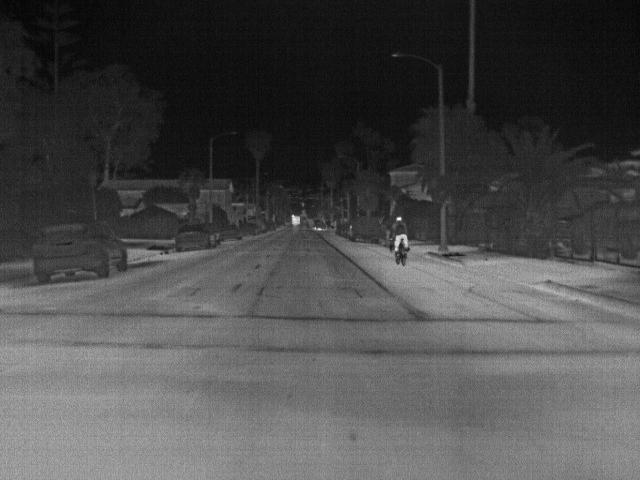car: (33, 221, 128, 286), (173, 224, 216, 251), (351, 214, 383, 244), (220, 223, 241, 242), (340, 219, 355, 239), (334, 220, 348, 234), (313, 218, 327, 232), (262, 222, 276, 234)
person: (392, 214, 411, 253)
